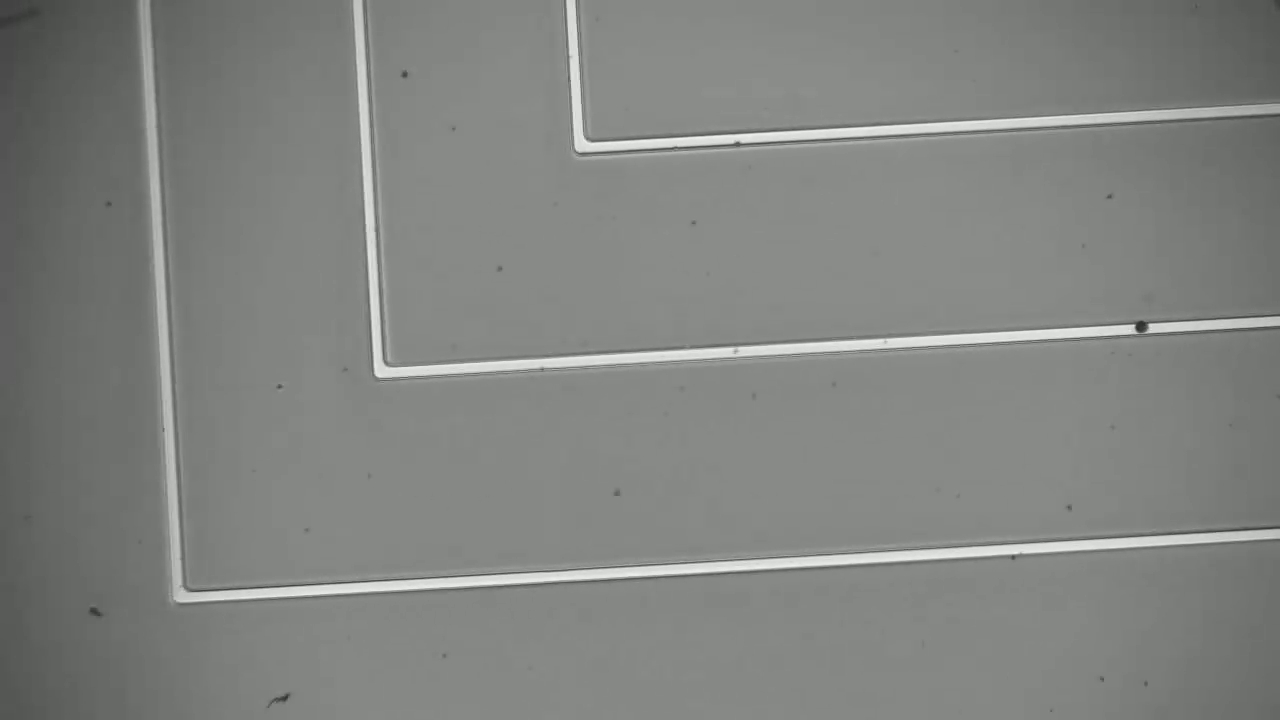stains_enbedded: (1128, 311, 1158, 346)
